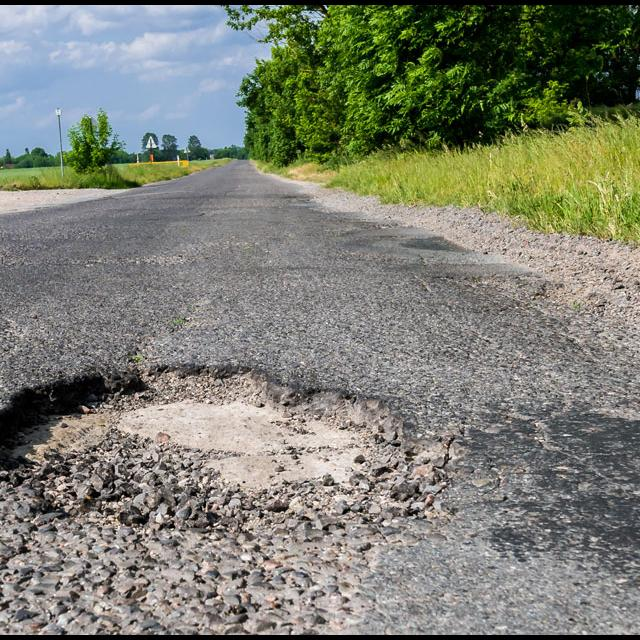lubang_kecil: (0, 323, 441, 561)
